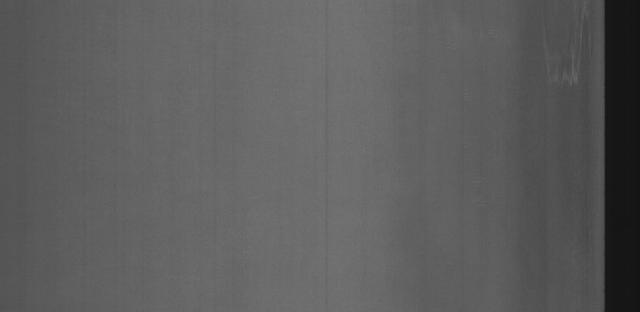silk_spot: (534, 10, 596, 94)
